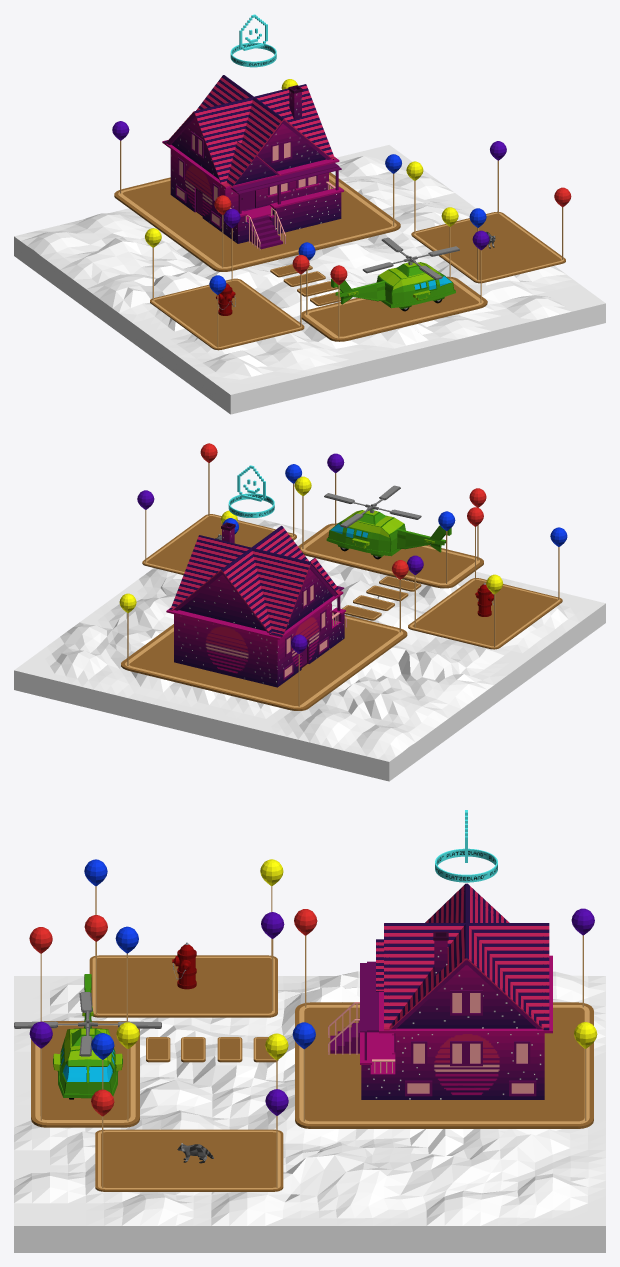
The picture shows the model from 3 angles, top to bottom: view 1: azimuth 30°, elevation 25°; view 2: azimuth 150°, elevation 25°; view 3: azimuth 270°, elevation 25°; orthographic projection. The views are drawn at different scales.
Visible parts, largest first — view 1: Cube.013, Cube.156, VEHICLES_HELICOPTER, TYPE_PREMIUM; view 2: Cube.013, Cube.156, VEHICLES_HELICOPTER, TYPE_PREMIUM, OBJRANDOM_FIRE_HYDRANT; view 3: Cube.013, Cube.156, VEHICLES_HELICOPTER, TYPE_PREMIUM, OBJRANDOM_FIRE_HYDRANT.
Boxes of the visible parts, box(x1,y1,x2,y2) form: Cube.013: box(14, 79, 605, 414); Cube.156: box(162, 75, 343, 250); VEHICLES_HELICOPTER: box(331, 237, 459, 311); TYPE_PREMIUM: box(230, 14, 276, 67); Cube.013: box(14, 443, 605, 781); Cube.156: box(166, 522, 346, 687); VEHICLES_HELICOPTER: box(324, 485, 451, 559); TYPE_PREMIUM: box(228, 465, 274, 517); OBJRANDOM_FIRE_HYDRANT: box(475, 583, 493, 616); Cube.013: box(14, 859, 605, 1252); Cube.156: box(328, 883, 552, 1099); VEHICLES_HELICOPTER: box(14, 974, 161, 1099); TYPE_PREMIUM: box(435, 810, 497, 882); OBJRANDOM_FIRE_HYDRANT: box(172, 942, 196, 989).
Bounding box in the file's own units: 4000 × 2443 × 4001.
Materials: 38 (4 with a texture image).
